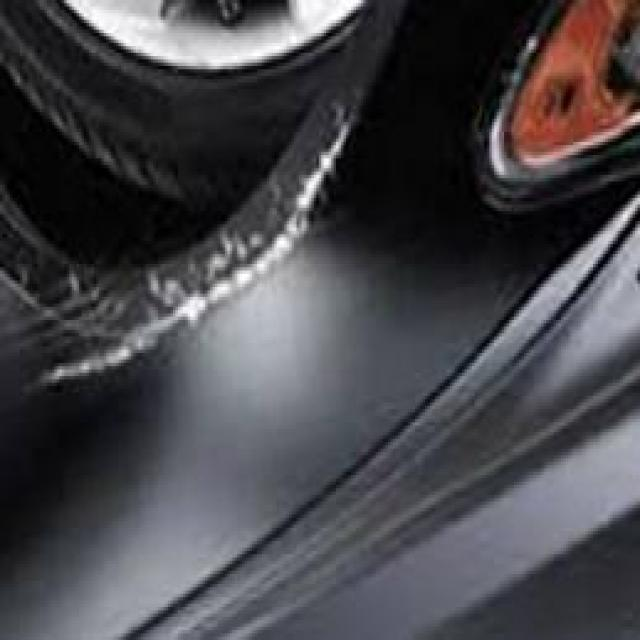scratch: (0, 84, 361, 437)
